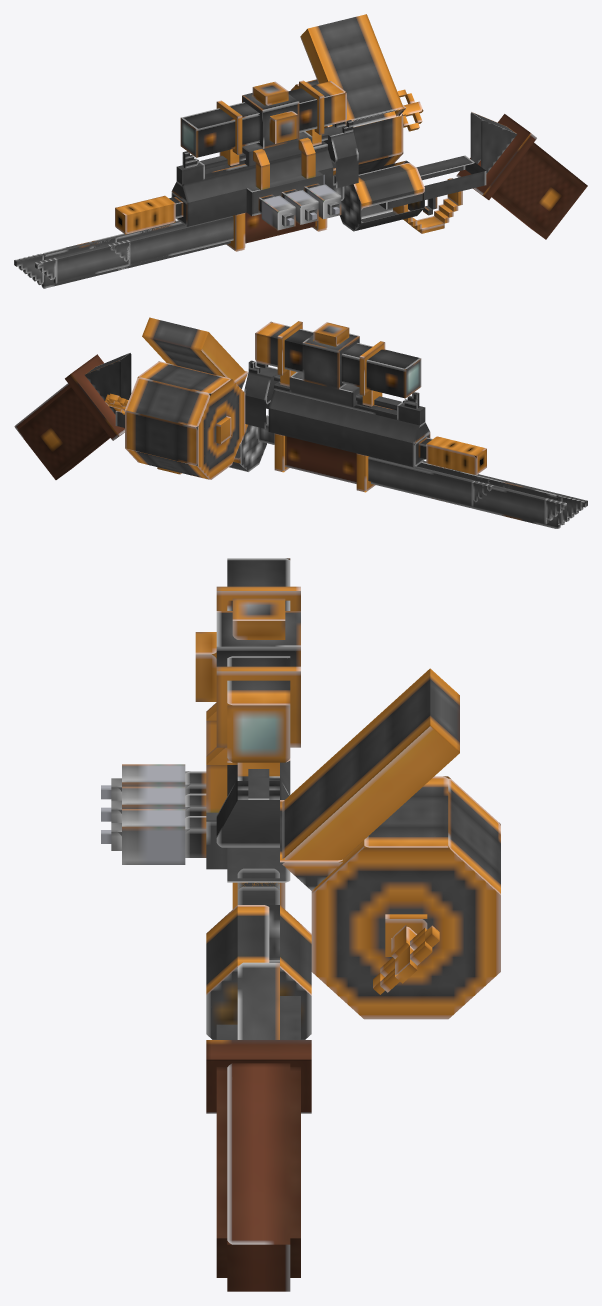
File: revolver.obj
3 renders of one model, top to bottom at view 1: azimuth 30°, elevation 25°; view 2: azimuth 150°, elevation 25°; view 3: azimuth 270°, elevation 25°, orthographic. The views are drawn at different scales.
Parts seen in each view (by area): view 1: frame, dev_scope, barrel, player_mag, dev_bayonet, cylinder, player_bayonet, player_electro_0, dev_mag, player_electro_1, cosmetic_compensator, bayonet_attachment; view 2: dev_mag, barrel, dev_scope, frame, dev_bayonet, player_bayonet, player_mag, bayonet_attachment, cosmetic_compensator, player_electro_0, cylinder; view 3: dev_mag, frame, dev_scope, player_mag, player_electro_1, cylinder, barrel, player_electro_0.
Part boxes in pixels (x1,y1,x2,y2): frame: [379, 112, 587, 239]; dev_scope: [180, 80, 346, 165]; barrel: [171, 120, 358, 226]; player_mag: [300, 14, 403, 127]; dev_bayonet: [14, 216, 233, 288]; cylinder: [339, 160, 424, 231]; player_bayonet: [88, 216, 233, 270]; player_electro_0: [242, 131, 324, 215]; dev_mag: [290, 79, 423, 175]; player_electro_1: [258, 183, 341, 230]; cosmetic_compensator: [115, 195, 183, 234]; bayonet_attachment: [226, 212, 327, 251]; dev_mag: [105, 361, 247, 479]; barrel: [244, 360, 430, 467]; dev_scope: [255, 321, 421, 406]; frame: [14, 353, 181, 479]; dev_bayonet: [368, 456, 587, 528]; player_bayonet: [368, 456, 514, 510]; player_mag: [142, 317, 245, 380]; bayonet_attachment: [274, 433, 375, 492]; cosmetic_compensator: [418, 436, 486, 475]; player_electro_0: [289, 372, 359, 406]; cylinder: [229, 424, 266, 471]; dev_mag: [280, 776, 500, 1019]; frame: [206, 960, 311, 1291]; dev_scope: [195, 558, 300, 776]; player_mag: [282, 668, 459, 862]; player_electro_1: [101, 764, 206, 864]; cylinder: [206, 905, 311, 1039]; barrel: [216, 761, 290, 904]; player_electro_0: [206, 702, 237, 869].
Bounding box in the file's own units: 7.74 × 2.88 × 2.37.
